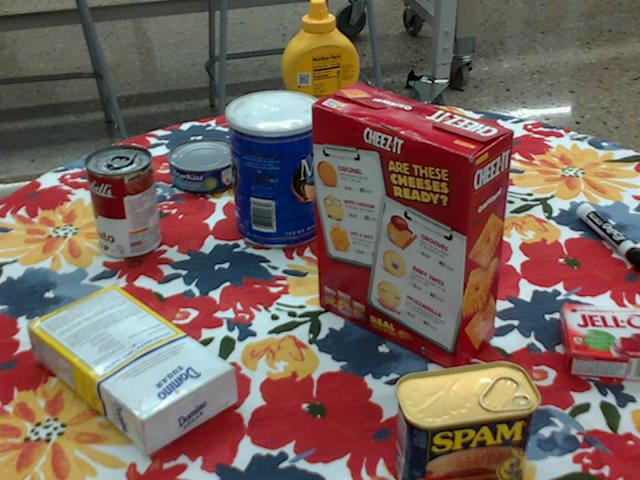cracker_box: (311, 84, 512, 375)
gelatin_box: (559, 303, 639, 378)
large_marker: (576, 201, 639, 268)
master_chef_can: (225, 89, 325, 248)
mug: (411, 118, 495, 203)
mustard_bottle: (281, 0, 360, 158)
potted_meat_can: (394, 361, 540, 479)
sugar_box: (28, 287, 236, 453)
tomato_soup_can: (85, 144, 160, 258)
tuna_fish_can: (169, 138, 241, 193)
